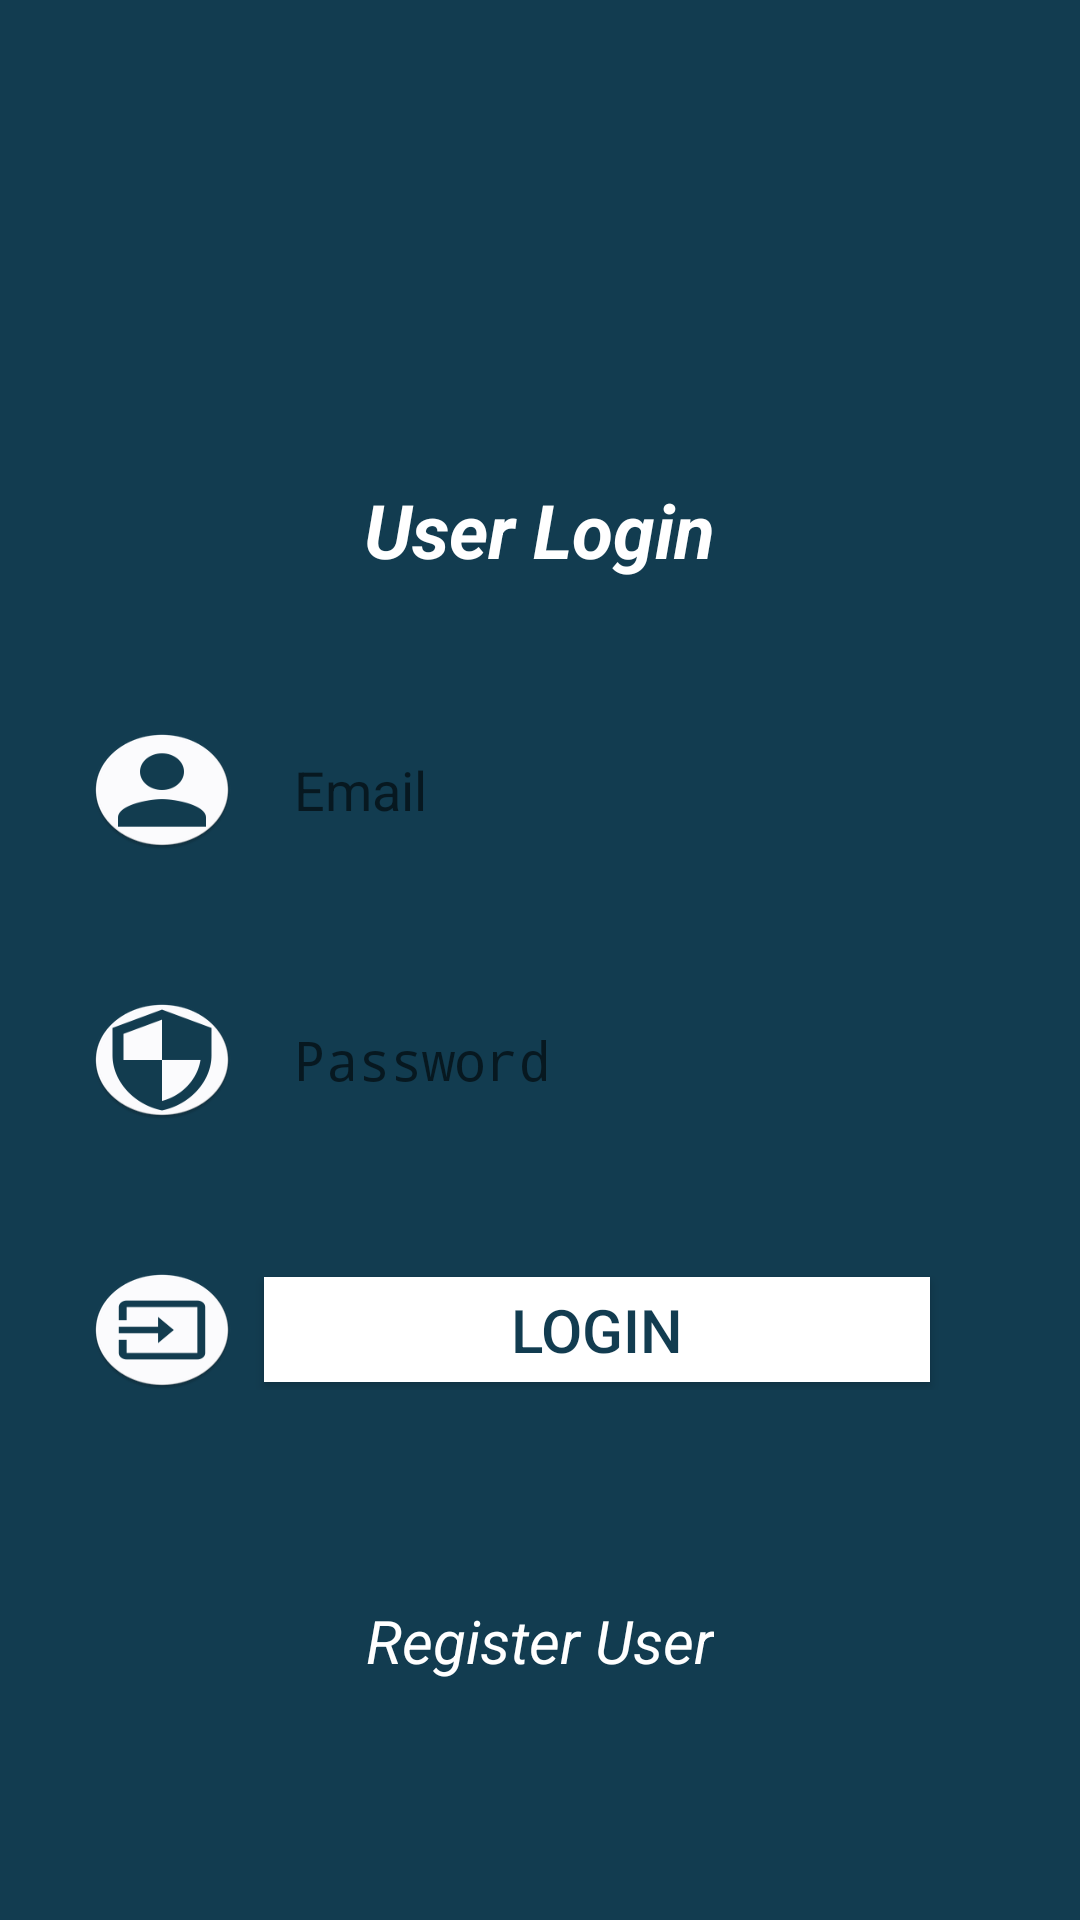

Icons on this 1080 × 1920 Android screen, each with its box as (x1=x1, y1=y1, x2=x2, y2=y2):
user mail: (x1=95, y1=734, x2=229, y2=845)
